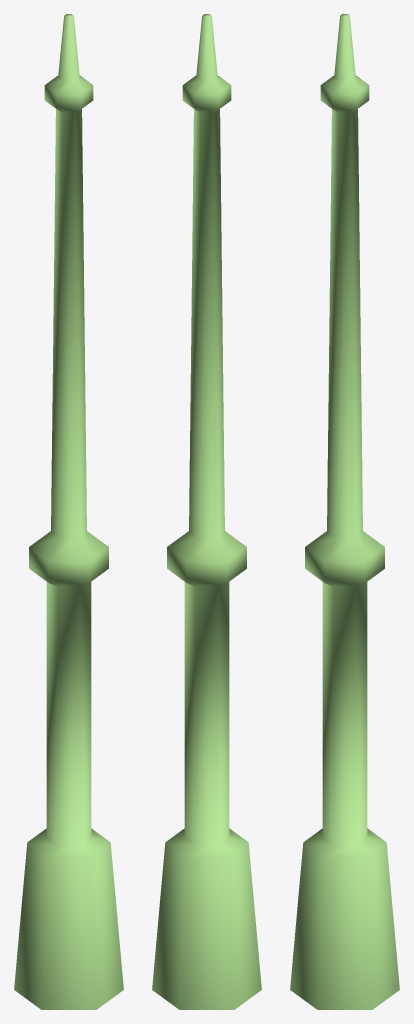
The model's file is station_roof_spire.fbx.
The picture shows the model from 3 angles, left to right: view 1: azimuth 90°, elevation 25°; view 2: azimuth 150°, elevation 25°; view 3: azimuth 270°, elevation 25°; orthographic projection.
Visible parts, largest first — view 1: roof_spire; view 2: roof_spire; view 3: roof_spire.
Part boxes in pixels (bbox=[...]): roof_spire: bbox=[14, 14, 123, 1009]; roof_spire: bbox=[152, 14, 261, 1009]; roof_spire: bbox=[290, 14, 399, 1009].
Size of the model in its own units: 0.2035 by 2.3 by 0.235.
